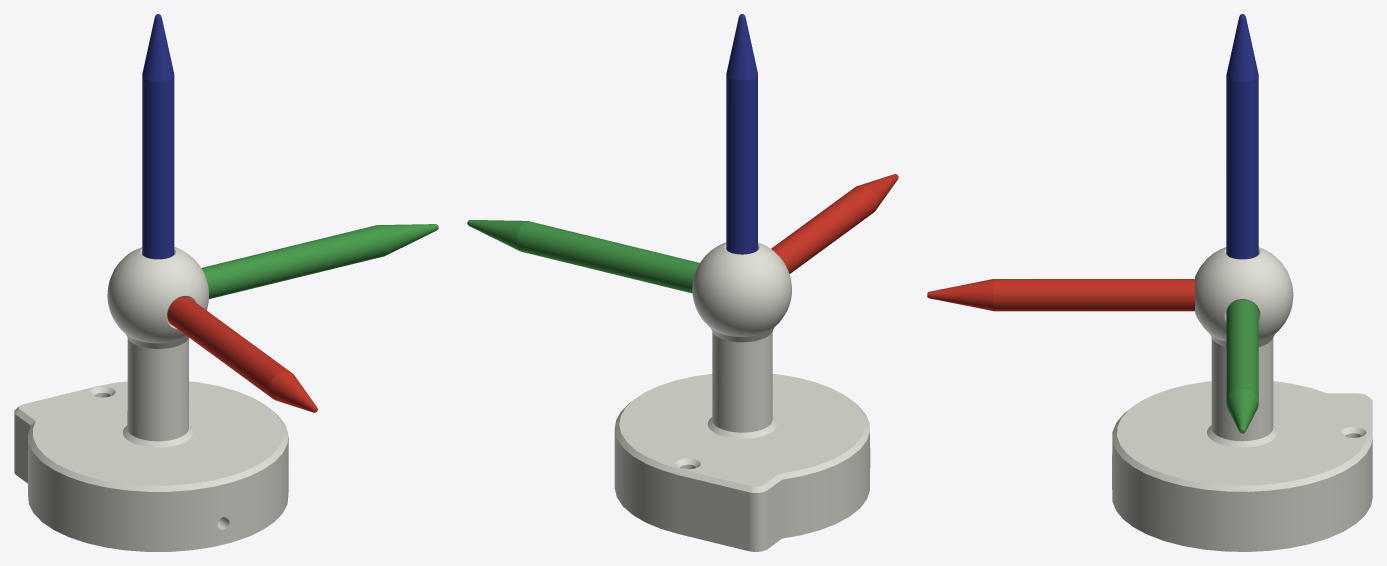
Rendered from Gripper1-XYZAxis.fbx.
3 views of the same model, side by side, from view 1: azimuth 30°, elevation 25°; view 2: azimuth 150°, elevation 25°; view 3: azimuth 270°, elevation 25° (orthographic). The views are drawn at different scales.
Visible parts, largest first — view 1: Body1 (×4); view 2: Body1 (×4); view 3: Body1 (×4).
Boxes of the visible parts, <box> form: Body1 (×4): <box>14,14,438,551</box>; Body1 (×4): <box>467,14,898,551</box>; Body1 (×4): <box>927,14,1372,551</box>.
Bounding box in the file's own units: 95.62 × 112 × 94.01.
